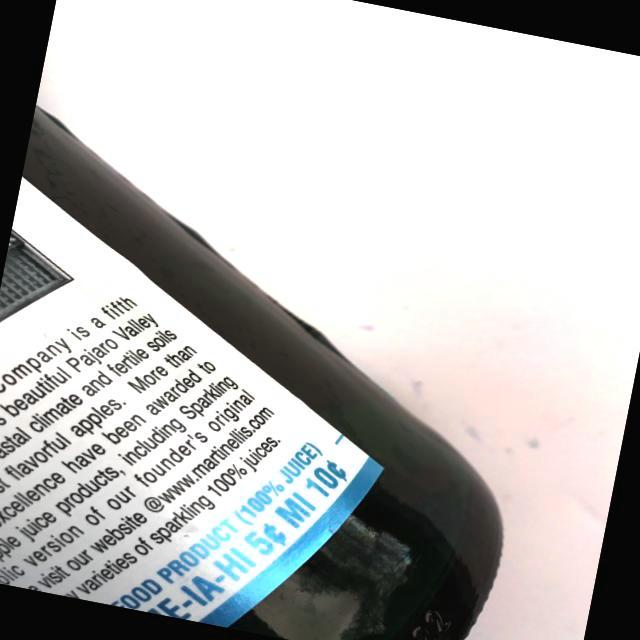glass: (0, 88, 582, 640)
